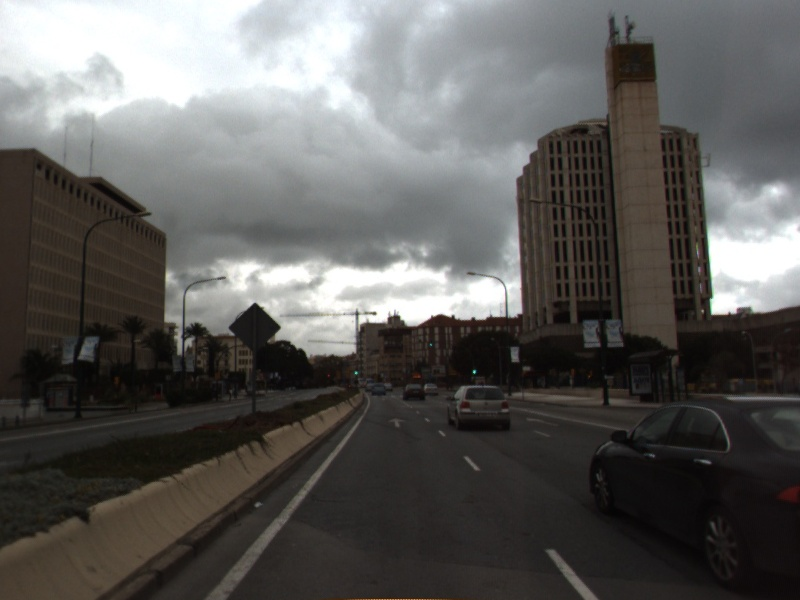STRAIGHT: (523, 415, 561, 429), (386, 415, 409, 430)
